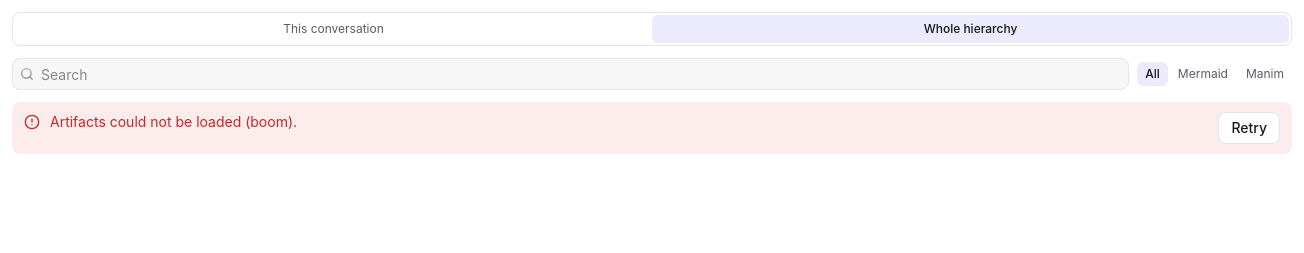
it: Artifacts tab › shows an error with Retry that reloads
Expected: the message shows "could not be loaded", [50, 113, 250, 130]
Click the button "Retry" at [1249, 128], box [1218, 112, 1280, 144]
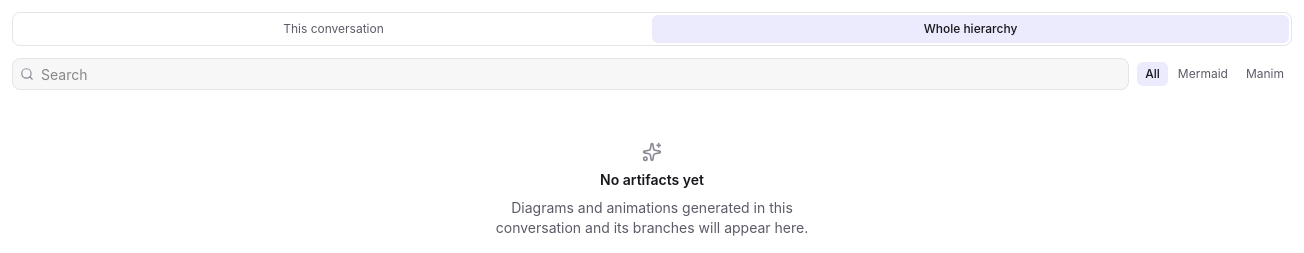
Expected: the heading "No artifacts yet" is shown, [600, 170, 704, 190]
